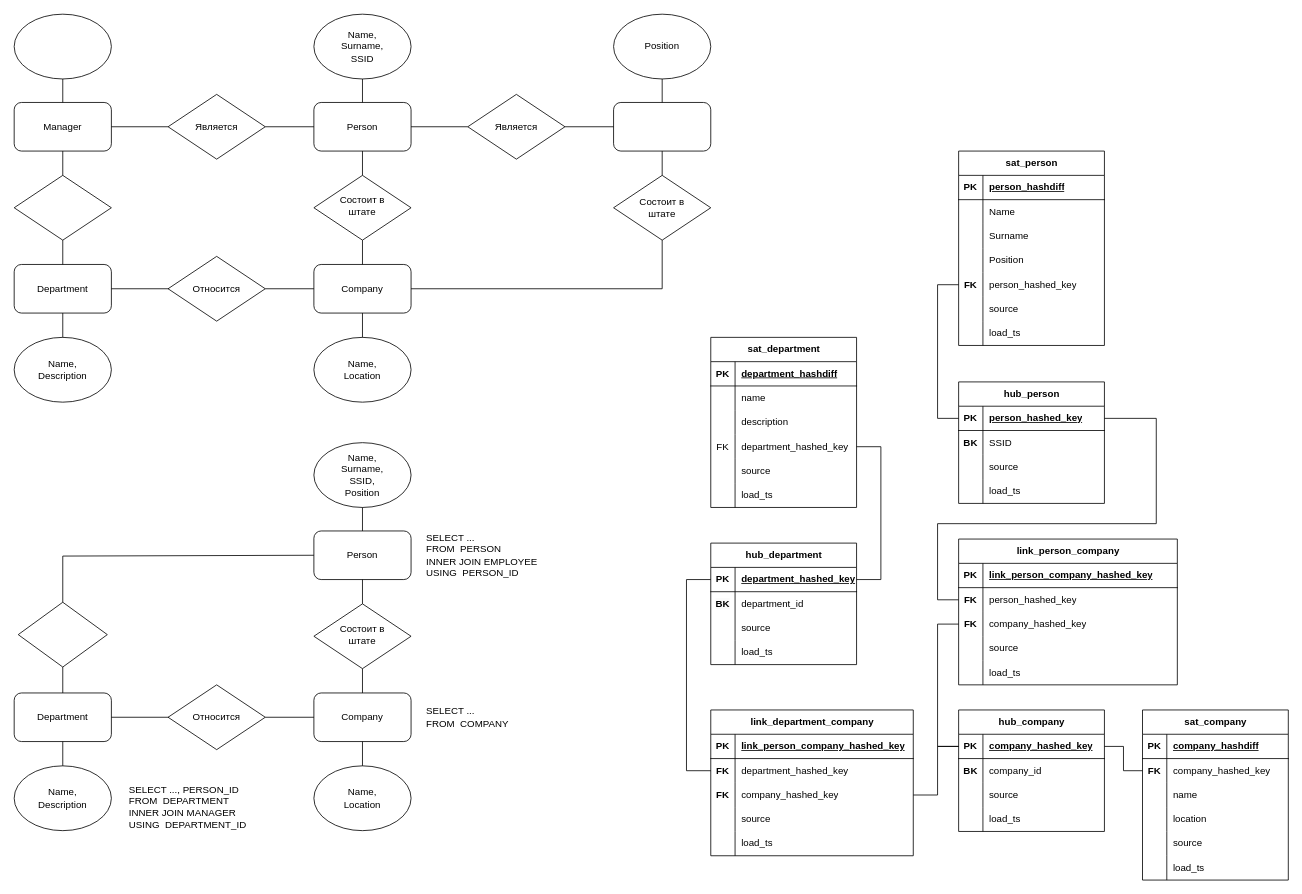
This 1302x894 diagram has some shape labels left out. The centre of each missing label's shape, as x and y in pixels:
"Employee" belongs at (x=662, y=126).
"NULL" belongs at (x=62, y=46).
"Находится под руководством" belongs at (x=62, y=634).
"Руководит" belongs at (x=62, y=207).
